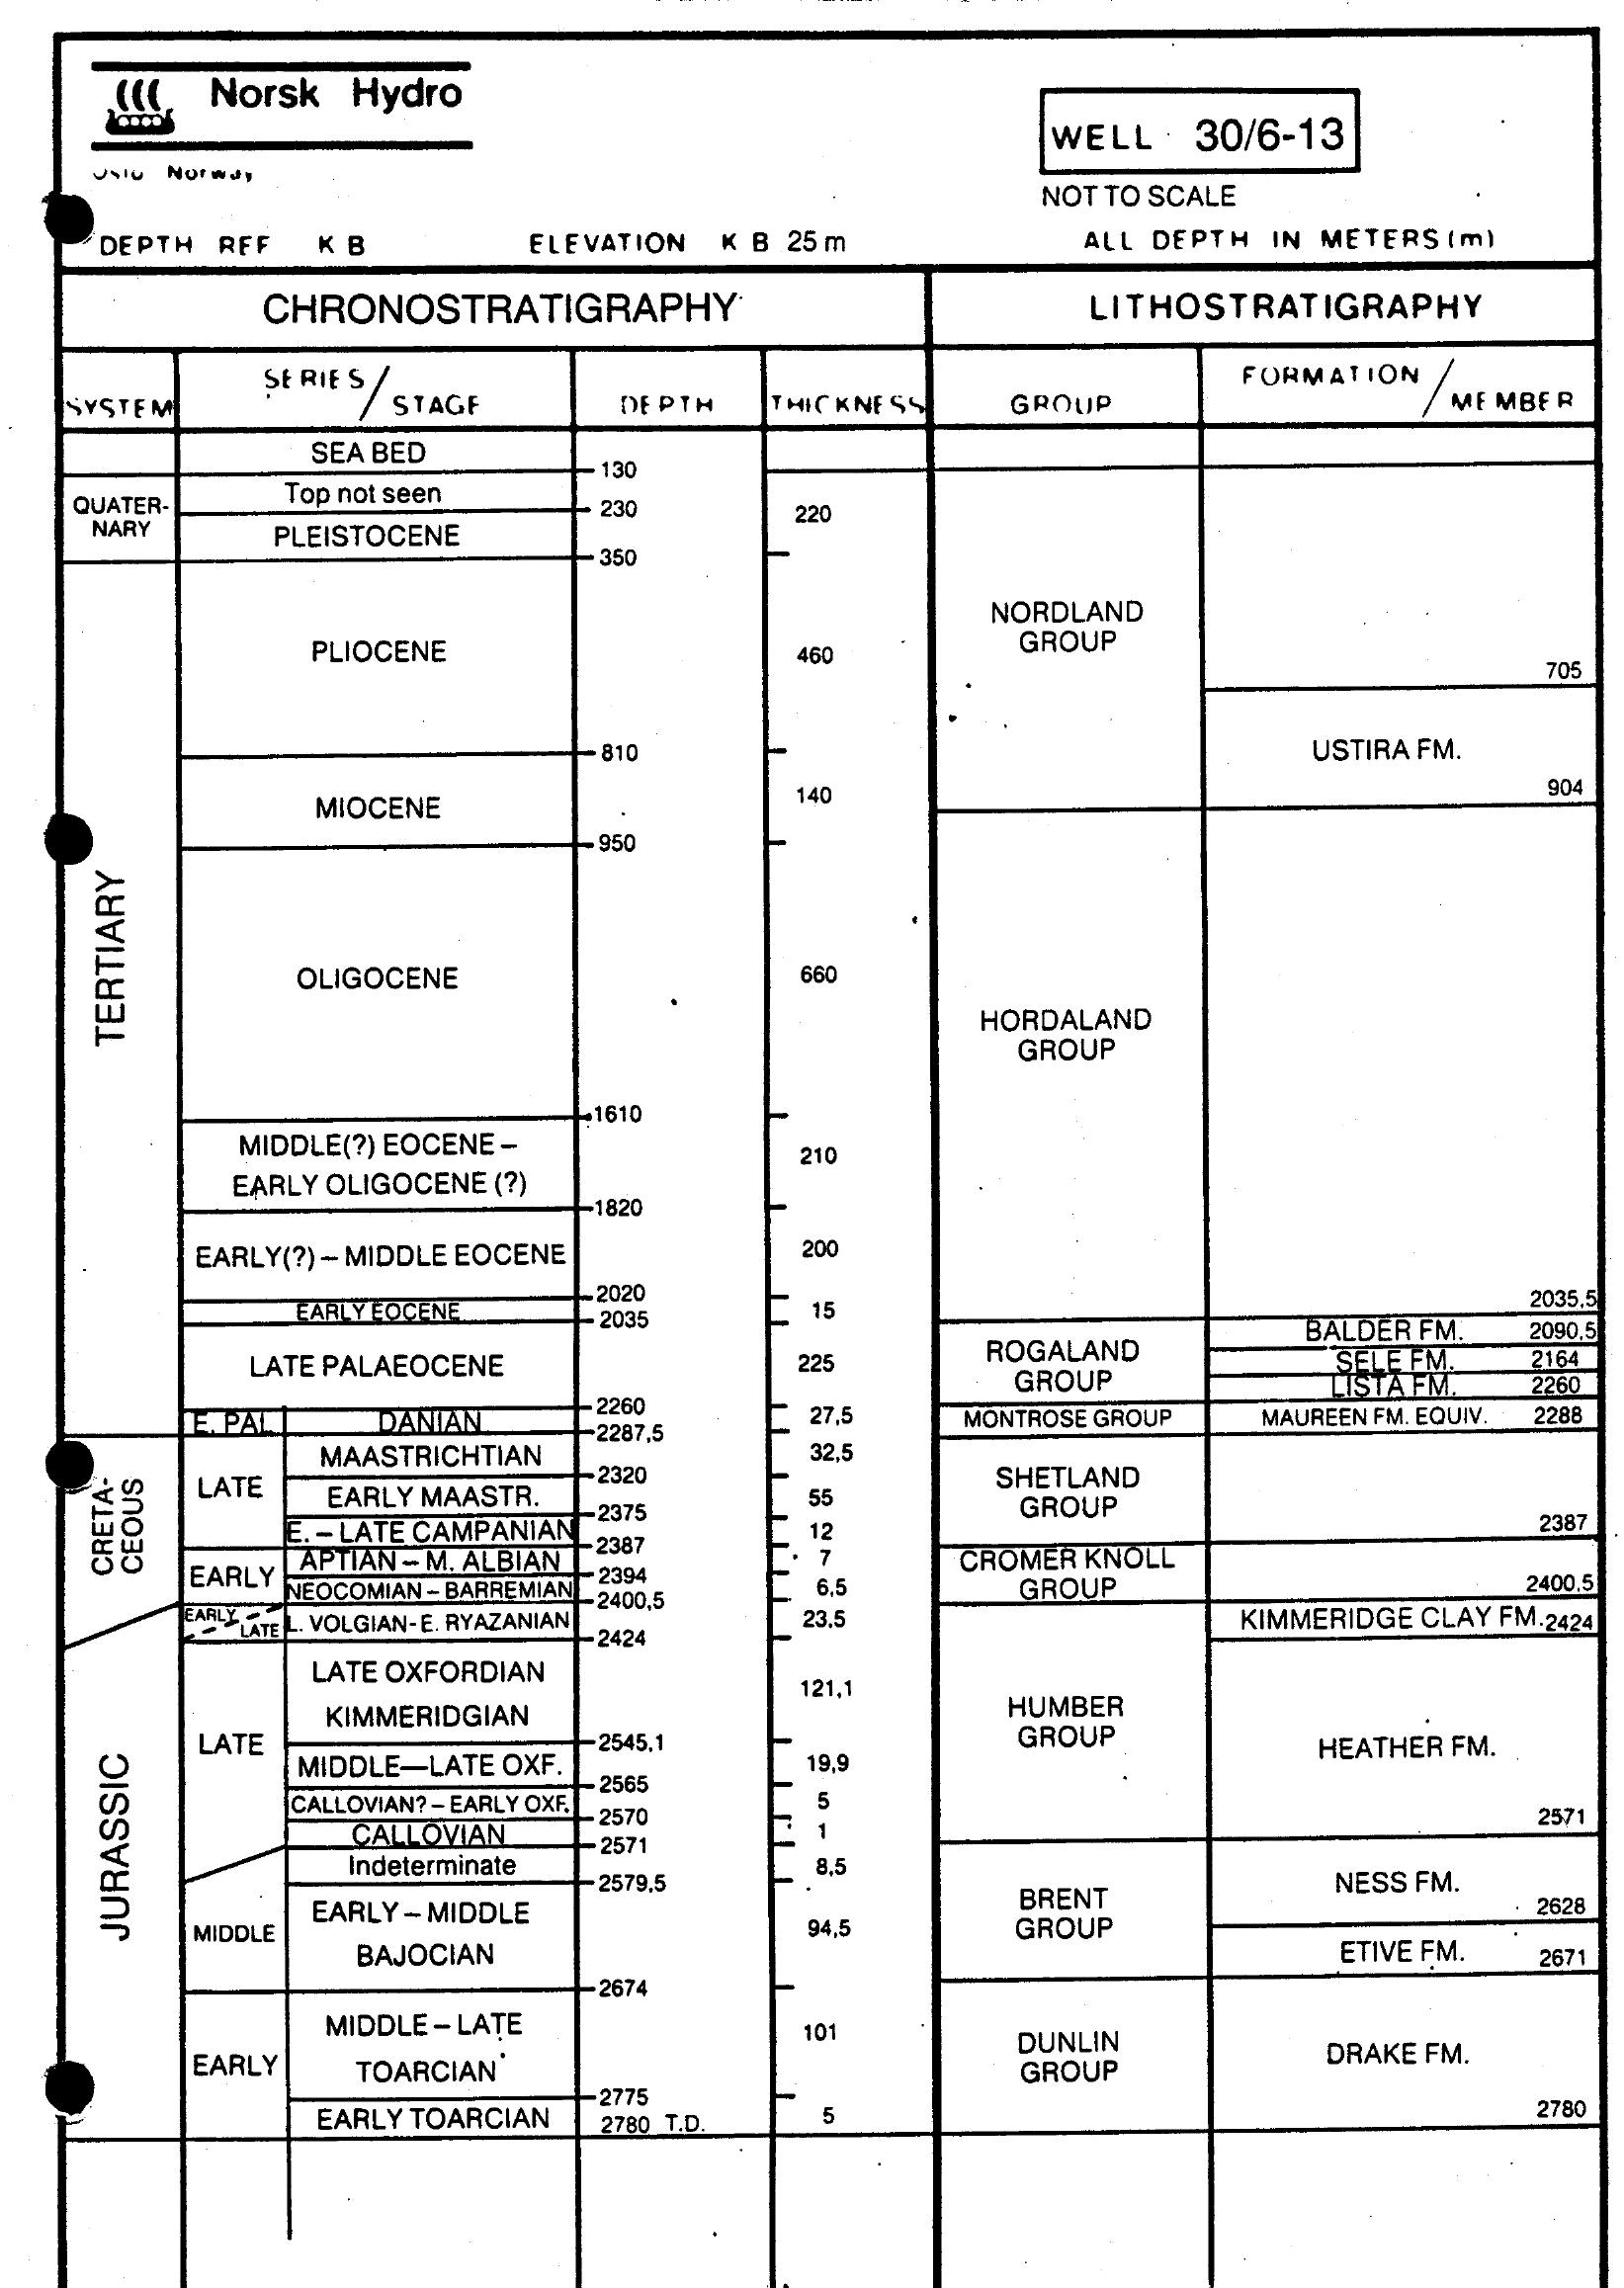graph: (30, 25, 1622, 2288)
